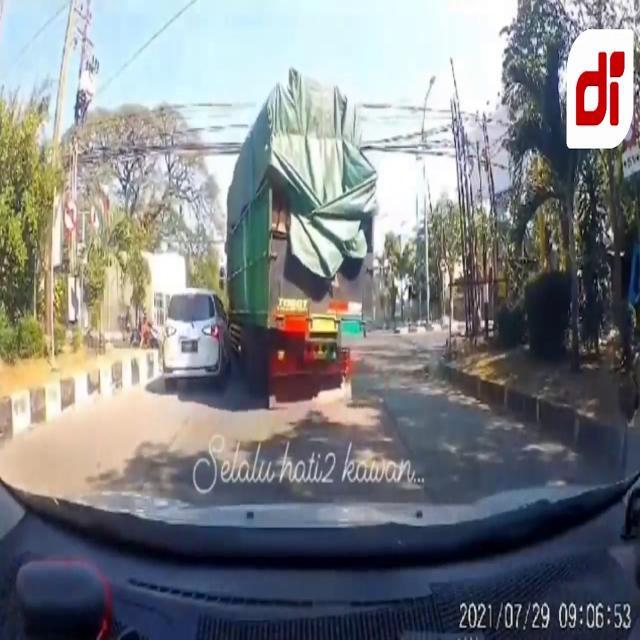multiple_accident: (157, 56, 373, 394)
